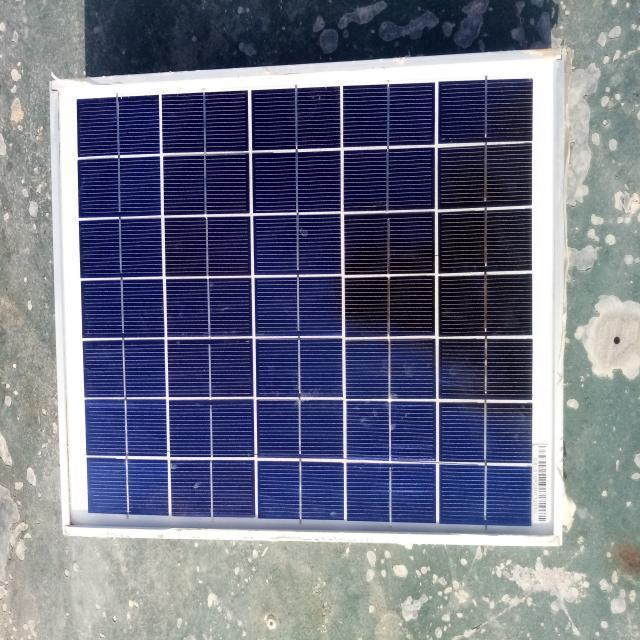Normal Solar Panel: (55, 49, 562, 541)
